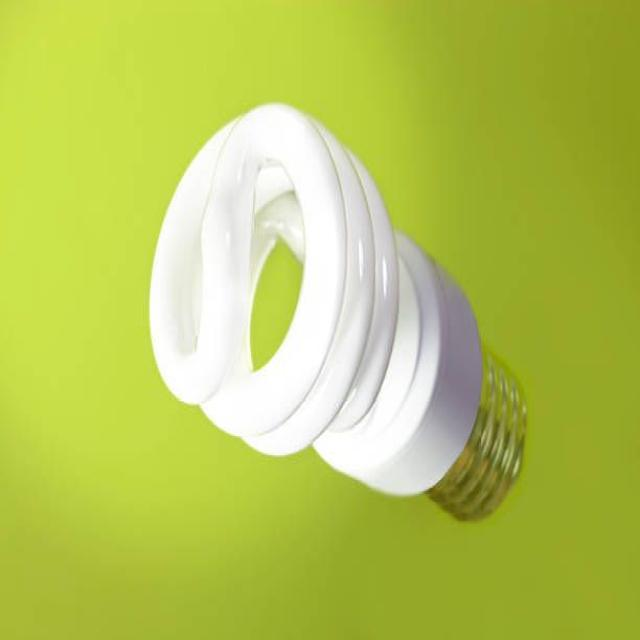electronic: (148, 99, 527, 522)
